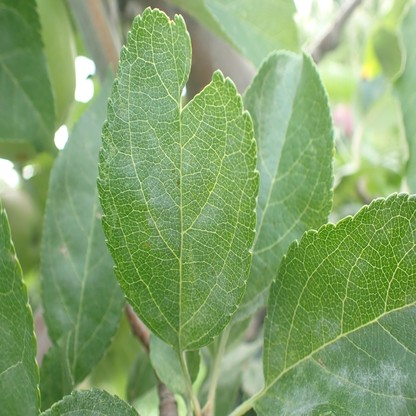powder: (110, 34, 225, 253), (278, 358, 409, 411), (41, 387, 140, 416), (192, 269, 239, 328), (313, 319, 342, 354)
